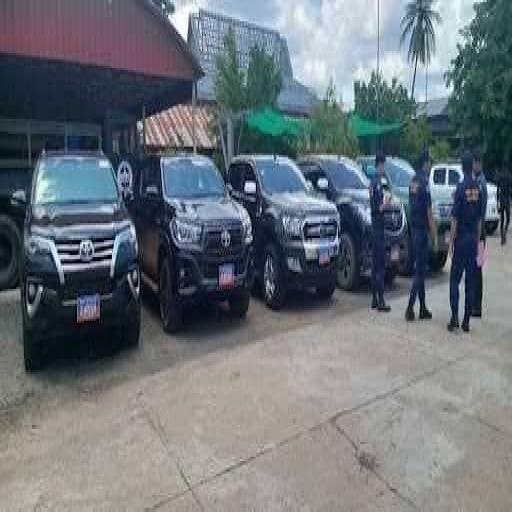Plate Number: (74, 296, 101, 326), (218, 264, 235, 288), (319, 248, 332, 262), (391, 246, 401, 261)
